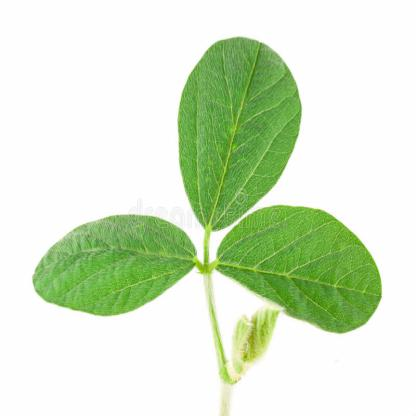Soybean leaf: (177, 32, 302, 232), (215, 205, 384, 335), (31, 214, 198, 319)
